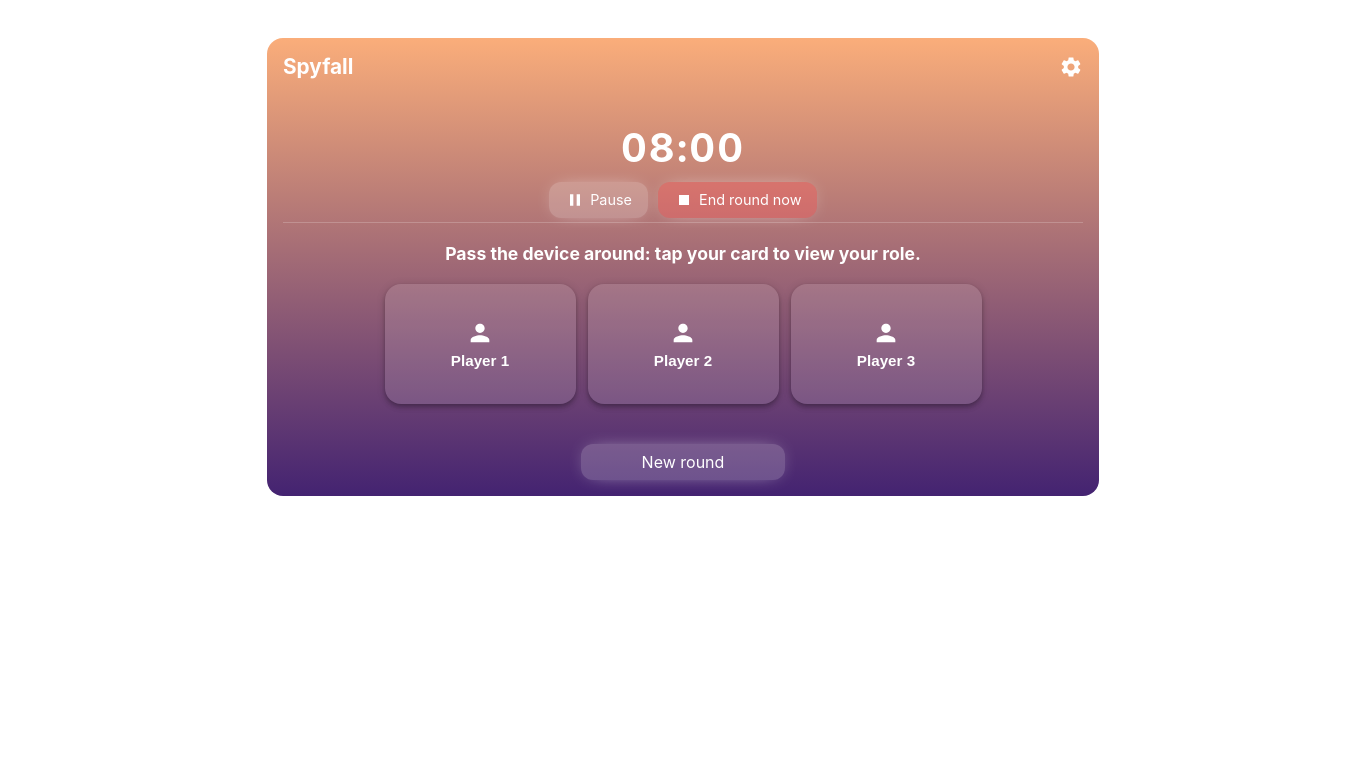
Test: SingleDeviceGame - private card grid flow › reveals a player's role instantly on tap, then locks the card once closed
This screenshot has width=1366, height=768.
Click the button with aria-label "Player 1 - tap to view card". click: {"x": 480, "y": 344}
box: [384,284,576,404]
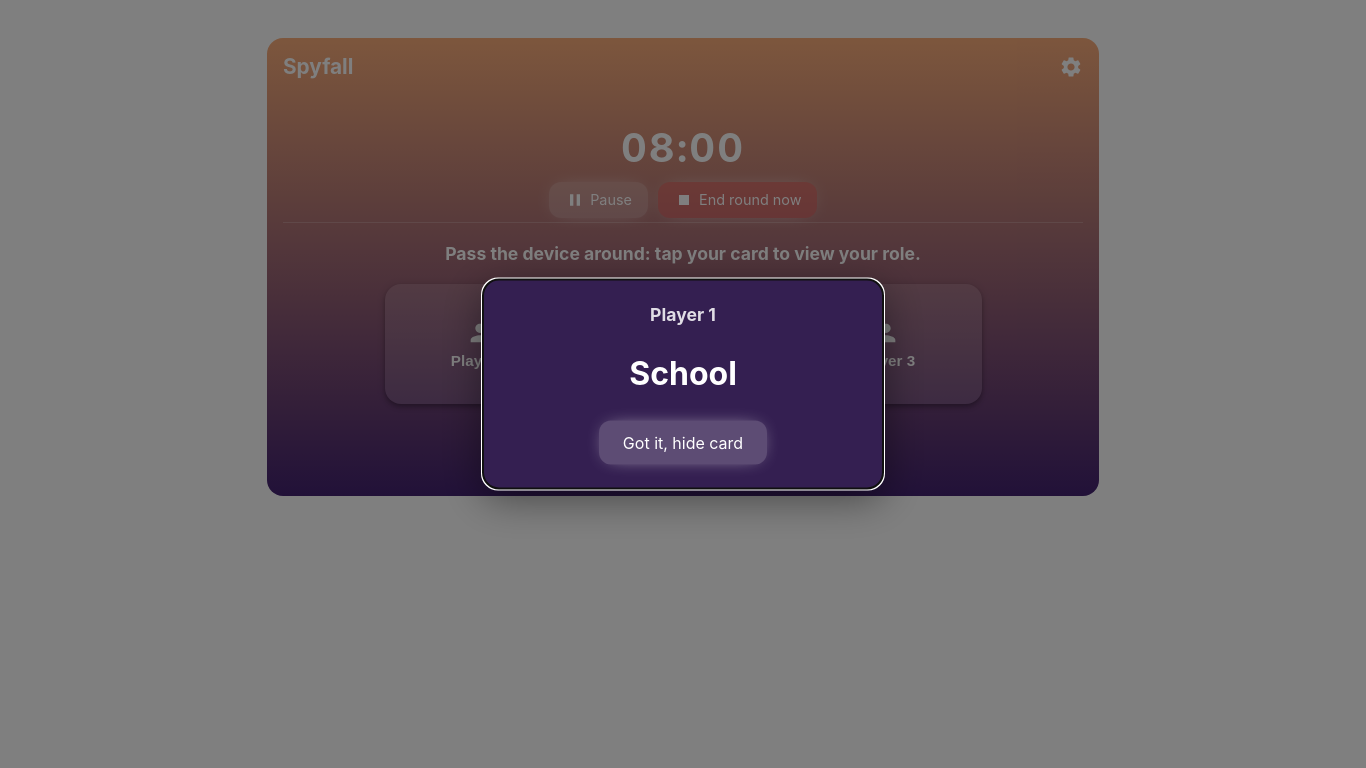
Now the message "School" is shown, box [629,340,737,404]
Click the button "Got it, hide card". click: {"x": 683, "y": 442}
box: [599,420,767,464]
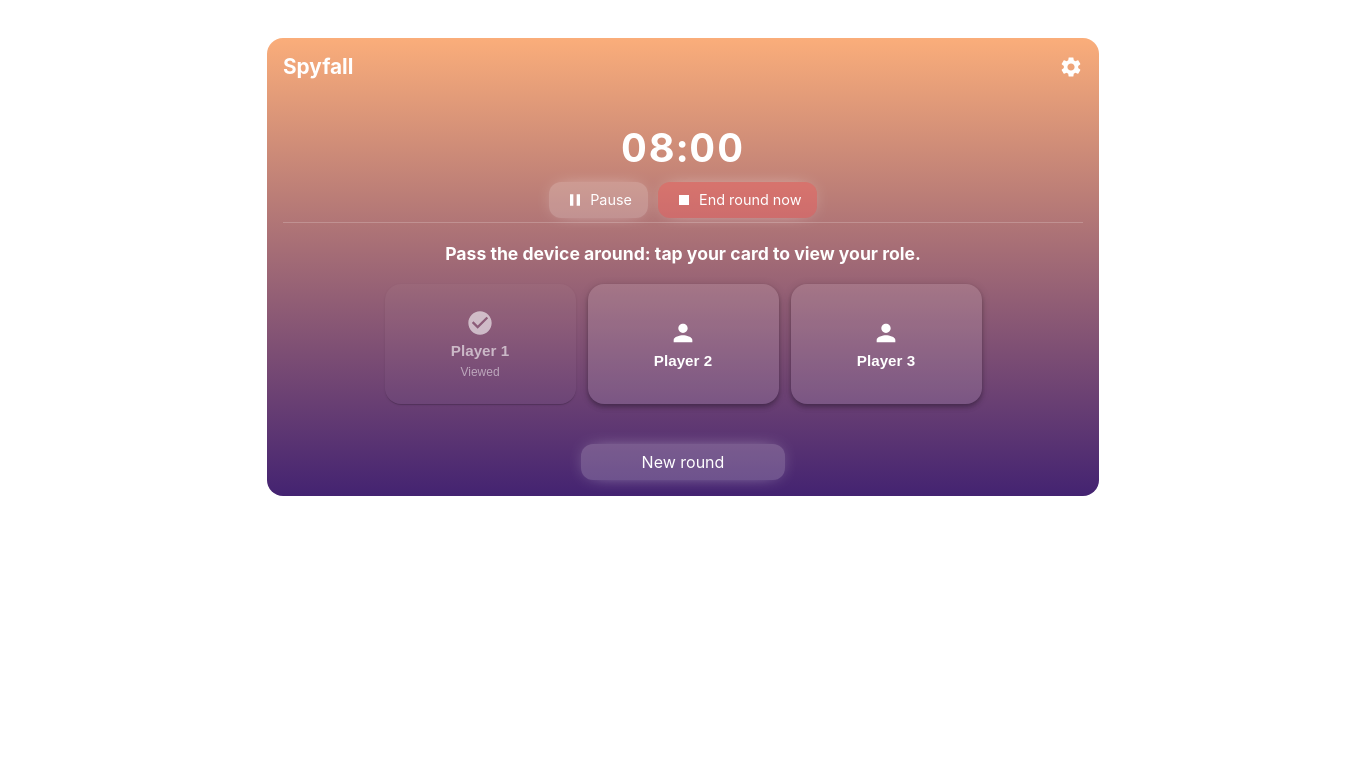
Now the button with aria-label "Player 1 - card viewed" is disabled, box [384,284,576,404]
